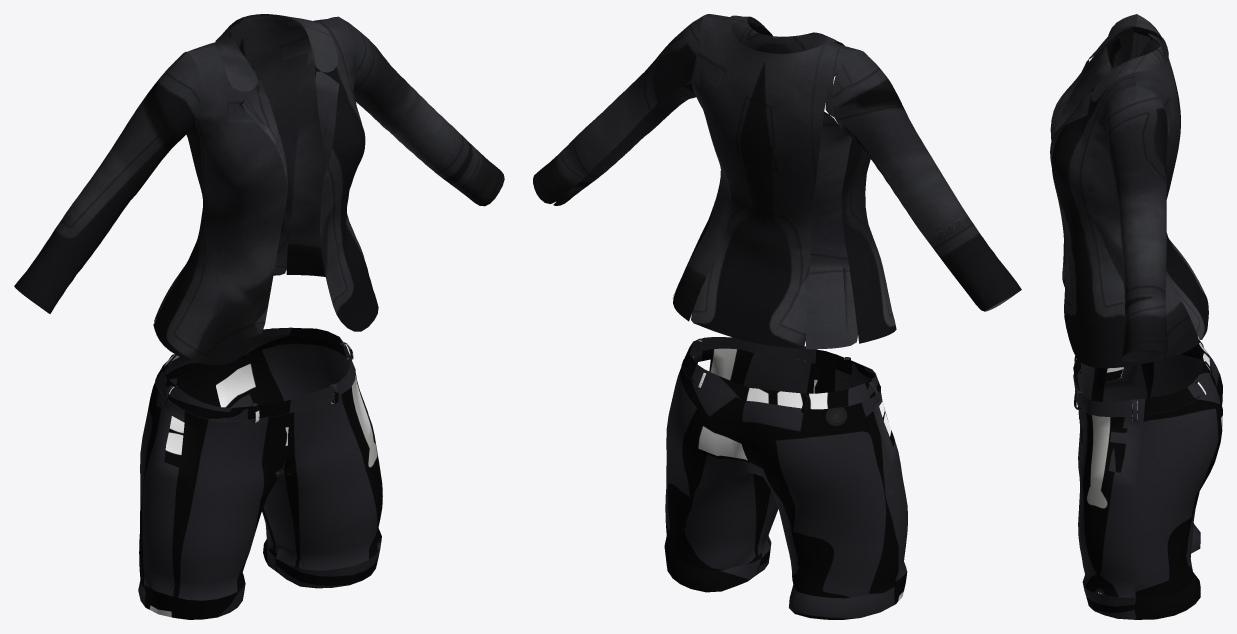
Rendered from blazer_shorts.glb.
3 views of the same model, side by side, from view 1: azimuth 30°, elevation 25°; view 2: azimuth 150°, elevation 25°; view 3: azimuth 270°, elevation 25° (orthographic). The views are drawn at different scales.
Parts seen in each view (by area): view 1: all, all_two; view 2: all, all_two; view 3: all, all_two.
Part boxes in pixels (x1,y1,x2,y2): all: (14,14,504,365); all_two: (138,327,382,619); all: (533,14,1021,349); all_two: (664,337,907,619); all: (1050,14,1208,368); all_two: (1073,340,1222,619).
Size of the model in its own units: 0.6101 by 0.6723 by 0.1979.
Materials: 2 (2 with a texture image).
